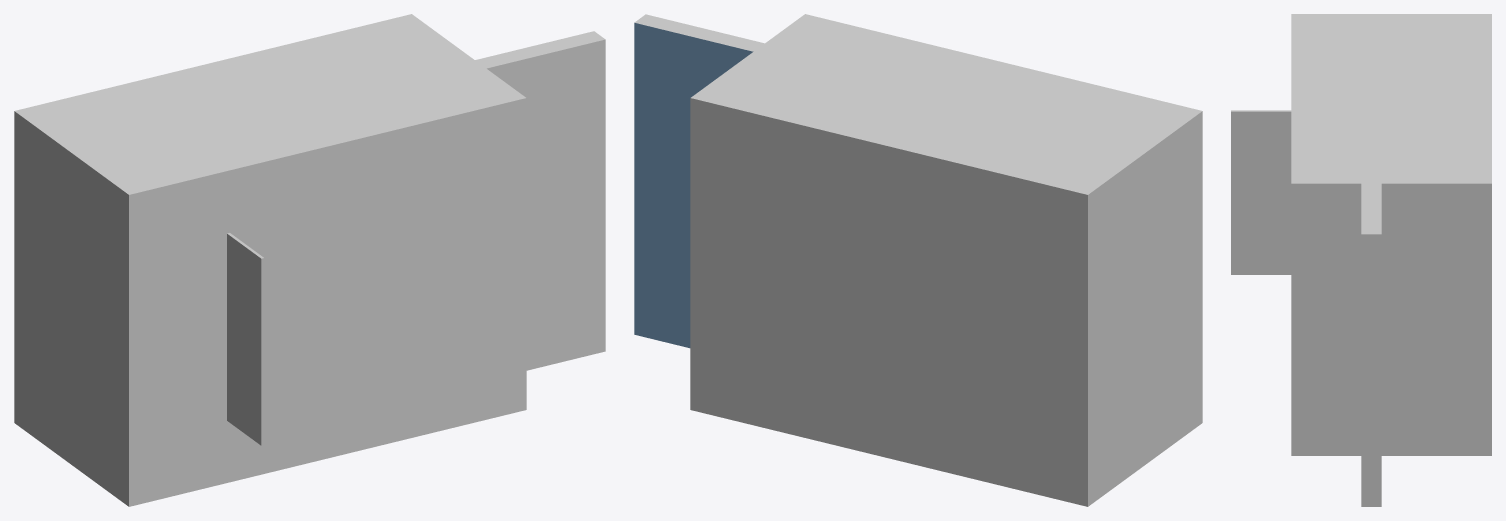
File: flagged.glb
3 renders of one model, left to right at view 1: azimuth 30°, elevation 25°; view 2: azimuth 150°, elevation 25°; view 3: azimuth 270°, elevation 25°, orthographic. The views are drawn at different scales.
Visible parts, largest first — view 1: world; view 2: world; view 3: world.
Part boxes in pixels (bbox=[...]): world: bbox=[14, 14, 605, 506]; world: bbox=[634, 14, 1202, 506]; world: bbox=[1231, 14, 1491, 506].
Size of the model in its own units: 52 by 30 by 26.
